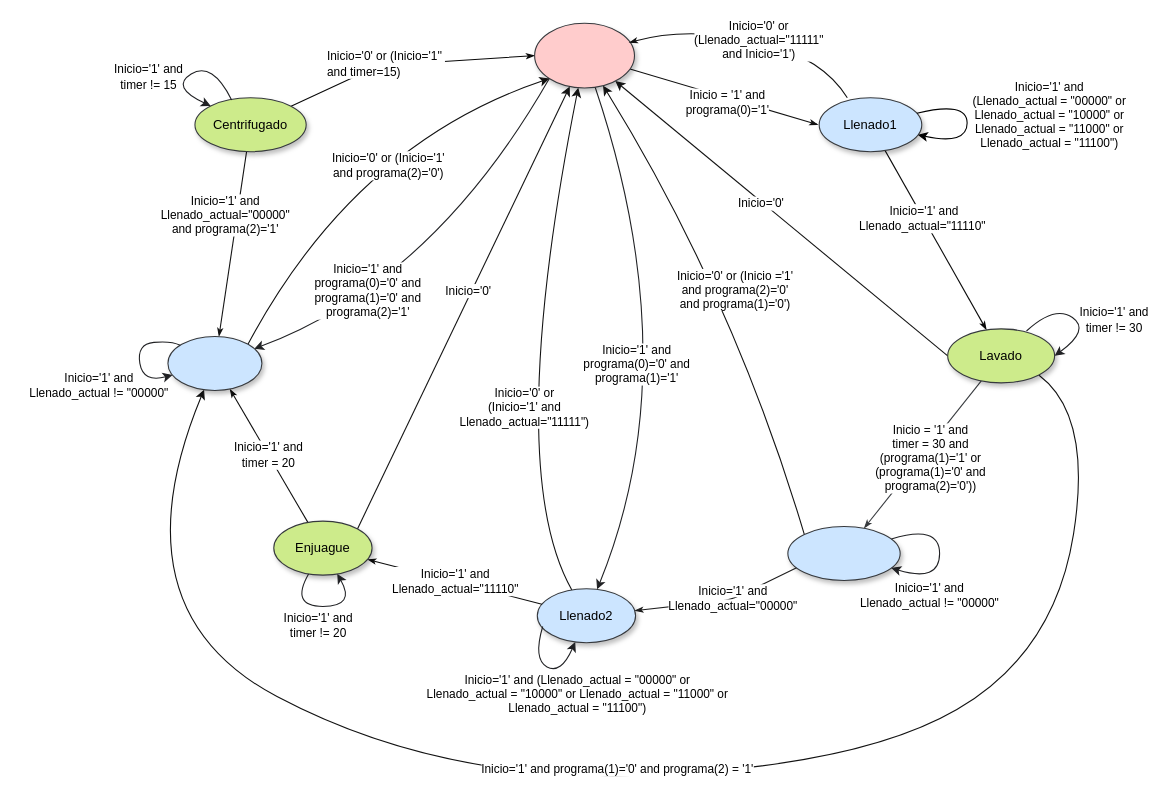
Image size: 1176x795. Some labels were removed from this diagram. The shapes that lost their labels are listed below. From the top down, each one's centre as x and y in pixels, then its label:
(585,57): Inicio
(215,364): Vaciado2
(844,554): Vaciado1
